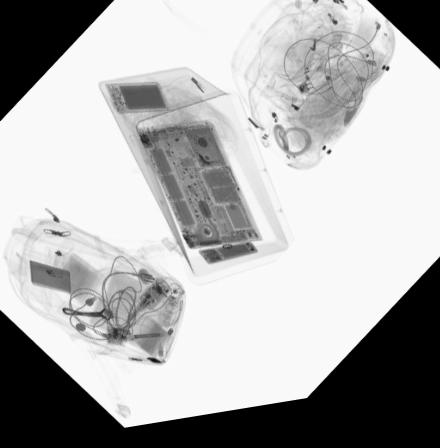Powerbank: (103, 86, 170, 117)
